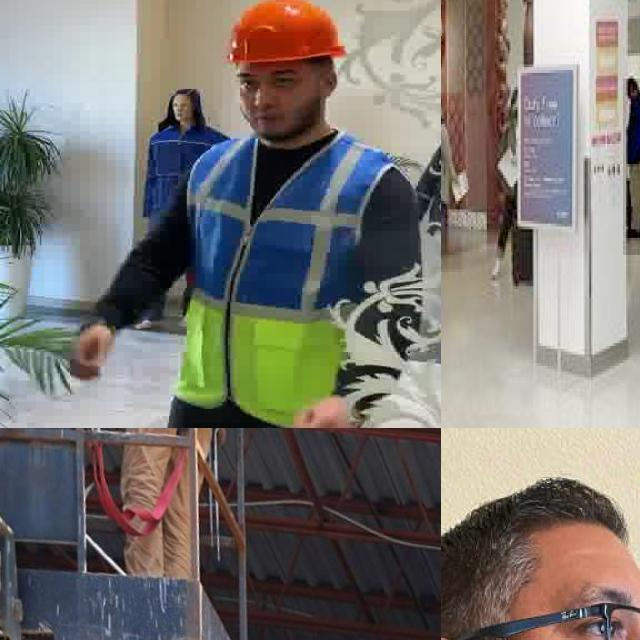No_Ear-Protection: (305, 58, 336, 97)
No_Glasses: (238, 68, 302, 97)
face_nomask: (242, 96, 321, 141)
hand_noglove: (72, 323, 115, 380), (293, 396, 357, 428)
head_helmet: (227, 0, 346, 63)
person: (441, 93, 463, 275), (623, 78, 640, 257)
shoes: (488, 245, 505, 285)
